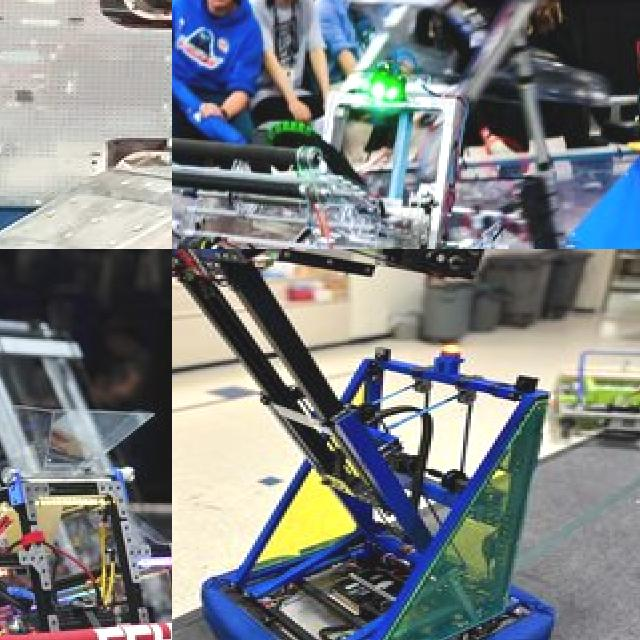FRC-Robots: (172, 249, 563, 640), (172, 74, 625, 249), (0, 302, 172, 640), (0, 0, 172, 249)
